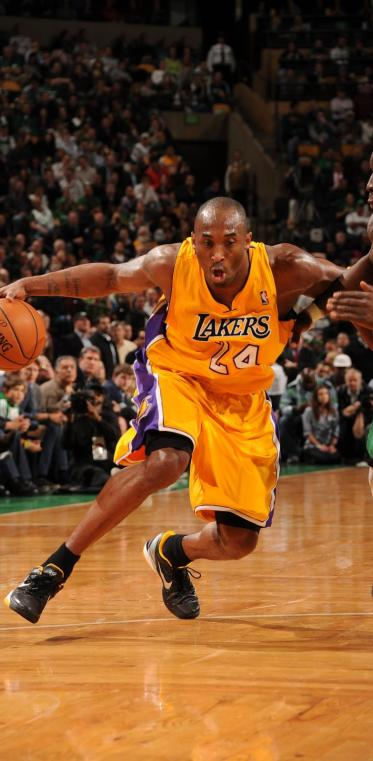ball: (1, 296, 46, 372)
